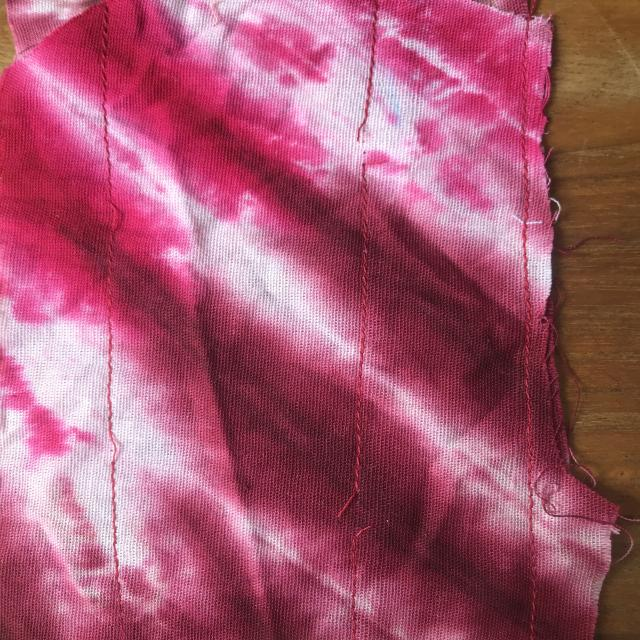broken: (333, 101, 400, 187), (320, 474, 393, 550)
skip: (87, 183, 155, 245), (87, 418, 154, 472)
